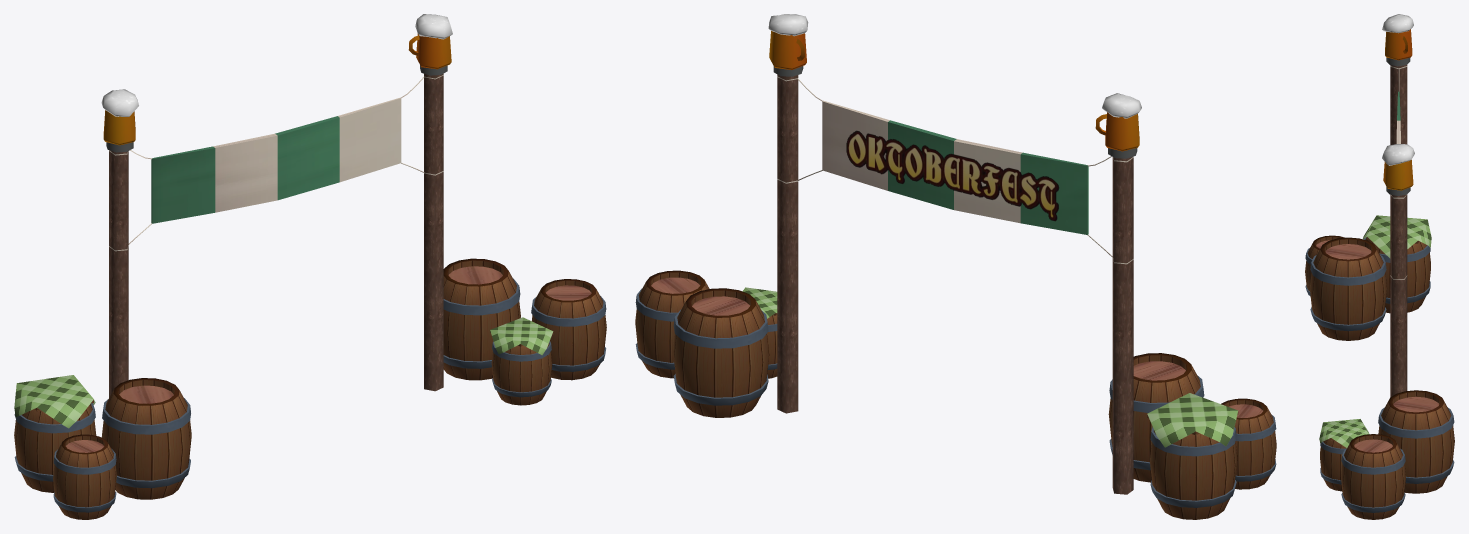
The model's file is pm-fair-secondary-entrance.glb.
3 views of the same model, side by side, from view 1: azimuth 30°, elevation 25°; view 2: azimuth 150°, elevation 25°; view 3: azimuth 270°, elevation 25° (orthographic). The views are drawn at different scales.
Parts seen in each view (by area): view 1: FairSecondaryEntrance; view 2: FairSecondaryEntrance; view 3: FairSecondaryEntrance.
Boxes of the visible parts, x1,y1,x2,y2 form: FairSecondaryEntrance: (14,14,606,519); FairSecondaryEntrance: (635,14,1276,519); FairSecondaryEntrance: (1305,14,1454,519).
Size of what is drawn, in the model's own units: 6.86 by 4.25 by 1.84.
Materials: 6 (6 with a texture image).
